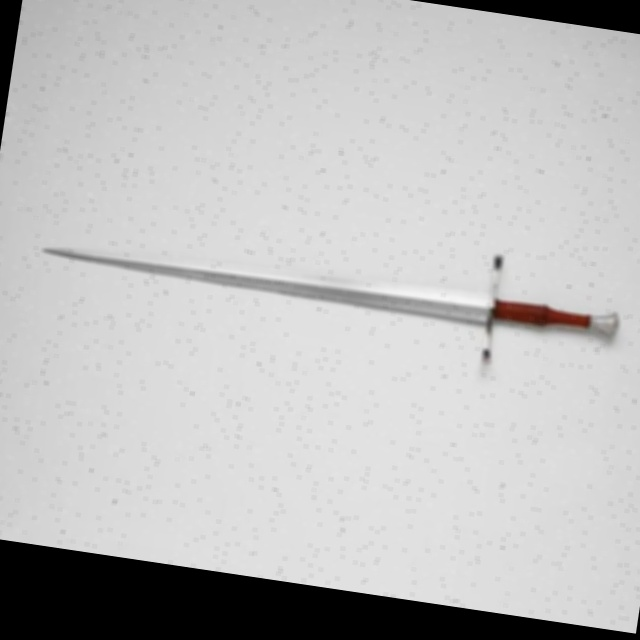Sharp-Object: (38, 228, 639, 361)
